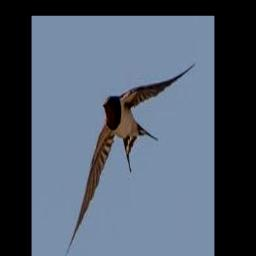Swallow: (64, 63, 196, 256)
